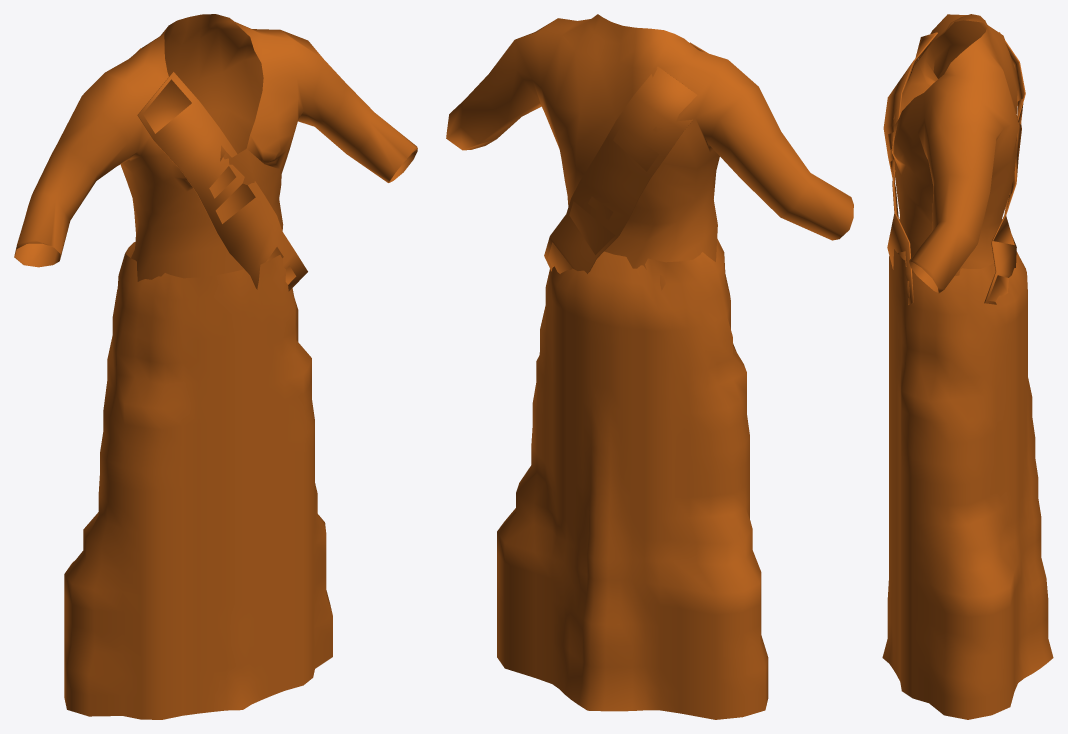
Rendered from monk_robe.glb.
The picture shows the model from 3 angles, left to right: view 1: azimuth 30°, elevation 25°; view 2: azimuth 150°, elevation 25°; view 3: azimuth 270°, elevation 25°; orthographic projection. The views are drawn at different scales.
Visible parts, largest first — view 1: monk_robe; view 2: monk_robe; view 3: monk_robe.
Part boxes in pixels (<box>): monk_robe: <box>14,14,417,719</box>; monk_robe: <box>446,14,853,719</box>; monk_robe: <box>882,14,1053,719</box>.
Size of the model in its own units: 0.9098 by 1.42 by 0.348.
